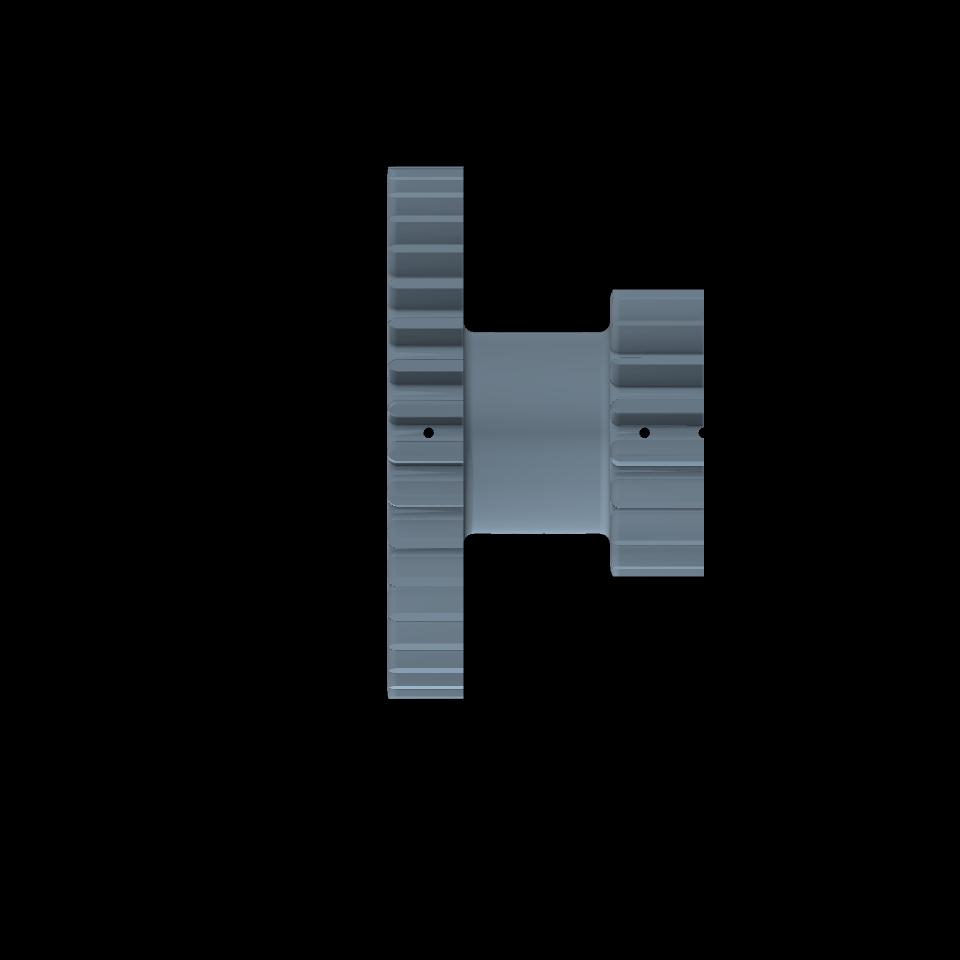Straight: (391, 167, 463, 698), (615, 288, 704, 576)
